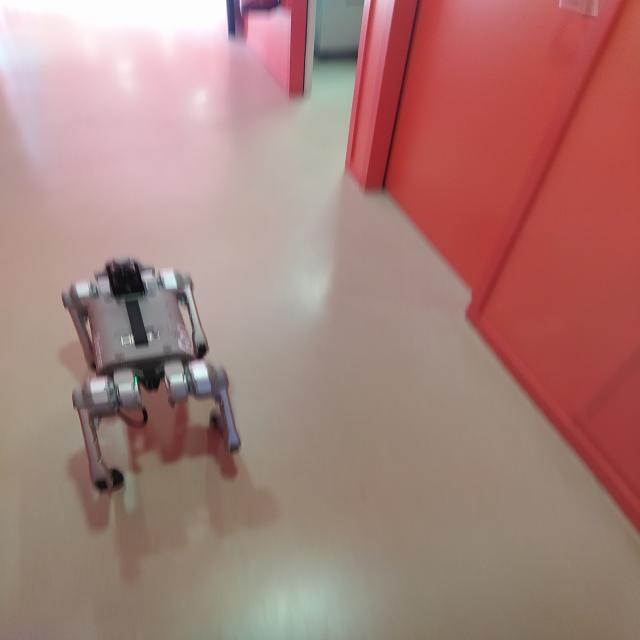unitree-go1-robot: (48, 257, 259, 506)
